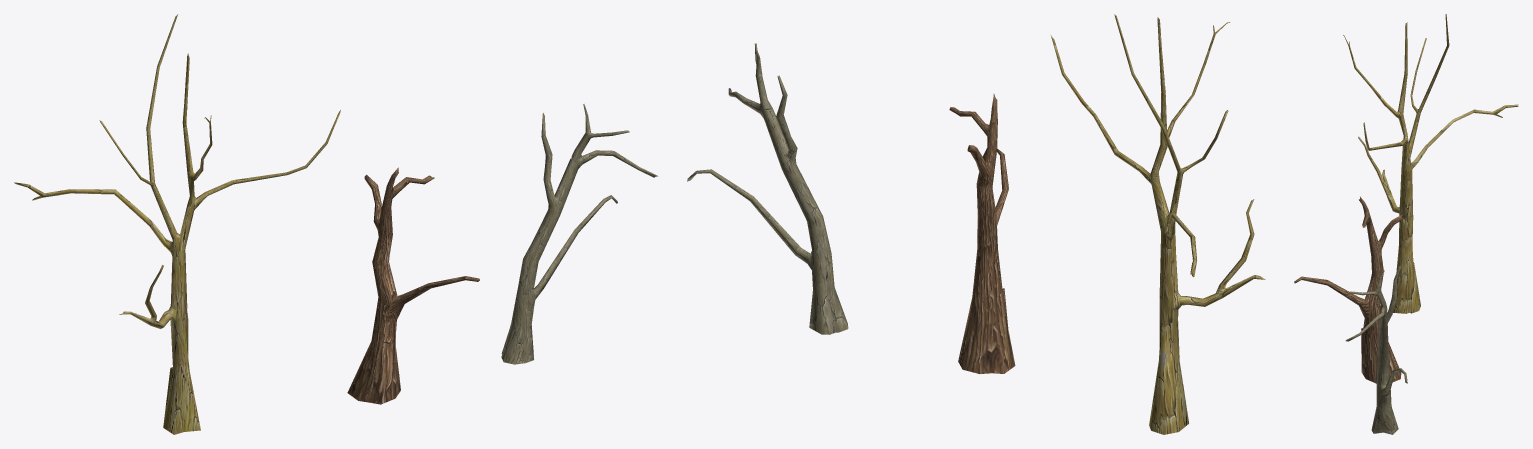
File: low-poly_trees2.glb
3 renders of one model, left to right at view 1: azimuth 30°, elevation 25°; view 2: azimuth 150°, elevation 25°; view 3: azimuth 270°, elevation 25°, orthographic. The views are drawn at different scales.
Parts seen in each view (by area): view 1: tree_01_07 - Default_0; view 2: tree_01_07 - Default_0; view 3: tree_01_07 - Default_0.
Part boxes in pixels (x1,y1,x2,y2): tree_01_07 - Default_0: [14, 14, 658, 434]; tree_01_07 - Default_0: [687, 14, 1265, 434]; tree_01_07 - Default_0: [1294, 14, 1518, 434].
Bounding box in the file's own units: 87.66 × 61.09 × 41.
1 material, 1 textured.
